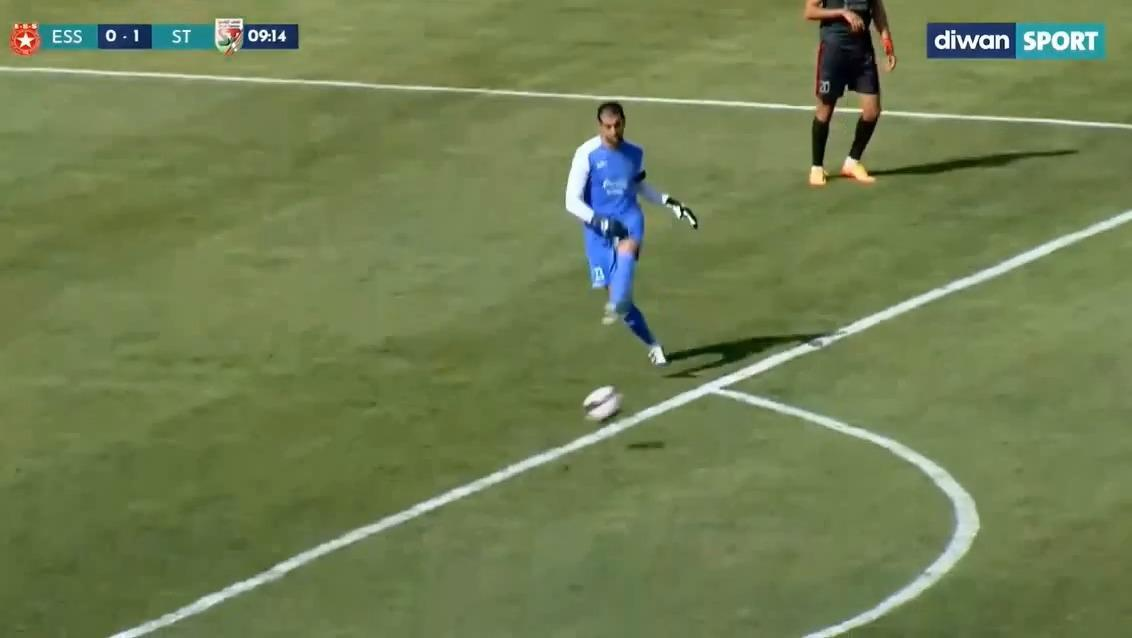ball: (582, 384, 626, 429)
goalkeeper: (570, 100, 685, 372)
